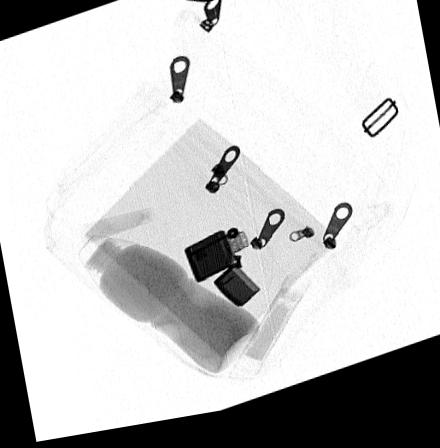Lighter: (183, 233, 260, 315)
